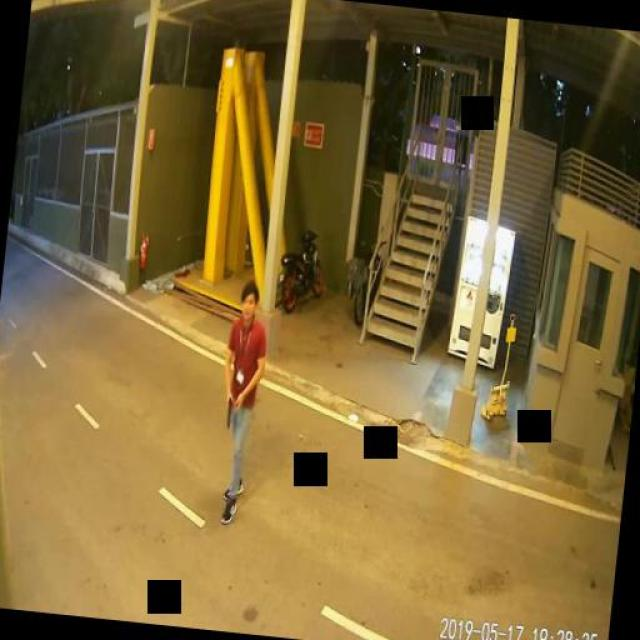gun: (222, 390, 234, 426)
